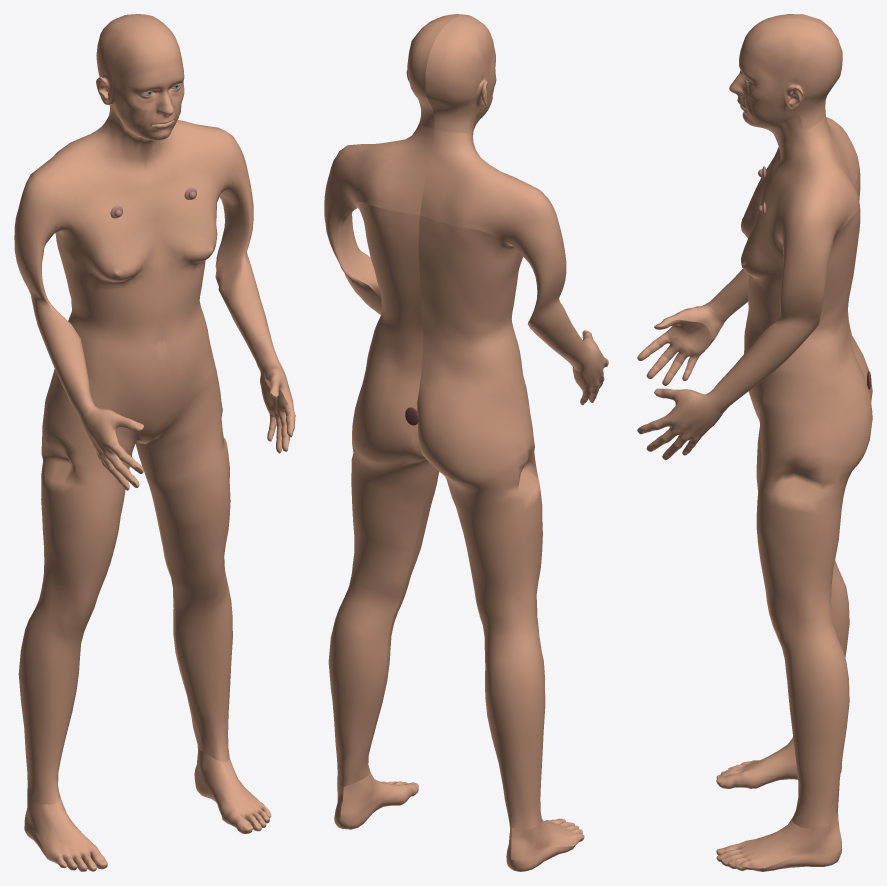
File: body-senior-divers-real-v3.glb
The picture shows the model from 3 angles, left to right: view 1: azimuth 30°, elevation 25°; view 2: azimuth 150°, elevation 25°; view 3: azimuth 270°, elevation 25°; orthographic projection.
Parts seen in each view (by area): view 1: real-human-body; view 2: real-human-body; view 3: real-human-body.
Part boxes in pixels (x1,y1,x2,y2): real-human-body: [14, 14, 295, 871]; real-human-body: [324, 14, 608, 871]; real-human-body: [637, 14, 872, 871].
Size of the model in its own units: 0.4912 by 1.65 by 0.4375.
7 materials, 1 textured.
